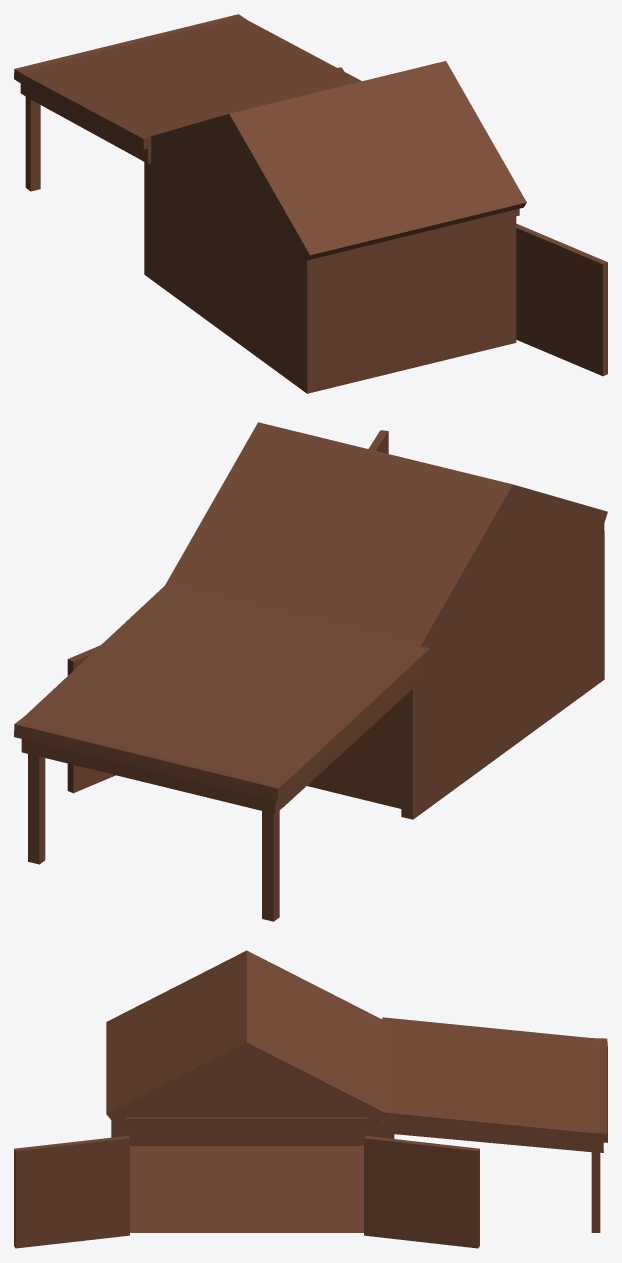
The model's file is SugarShack_TFSGJ_Spring2025.fbx.
3 views of the same model, one above another, from view 1: azimuth 30°, elevation 25°; view 2: azimuth 150°, elevation 25°; view 3: azimuth 270°, elevation 25° (orthographic). The views are drawn at different scales.
Parts seen in each view (by area): view 1: Roof, left wall, Outside roof, Back Wall, Door1, Outside roof.002, Outside roof.003; view 2: Roof, Outside roof, Back Wall, Right wall, Outside roof.003, Outside roof.002, Outside roof.001, Door 2; view 3: Roof, Outside roof, Floor, Door 2, Door1, front wall, Back Wall, Outside roof.001.
Part boxes in pixels (box(x1,y1,x2,y2)): Roof: box(150, 61, 526, 267); left wall: box(307, 216, 516, 393); Outside roof: box(14, 14, 361, 163); Back Wall: box(151, 153, 307, 393); Door1: box(516, 223, 607, 376); Outside roof.002: box(25, 97, 40, 191); Outside roof.003: box(144, 162, 150, 279); Roof: box(165, 422, 607, 658); Outside roof: box(14, 585, 429, 813); Back Wall: box(421, 531, 604, 813); Right wall: box(307, 700, 401, 808); Outside roof.003: box(401, 682, 420, 819); Outside roof.002: box(262, 810, 279, 921); Outside roof.001: box(28, 754, 45, 864); Door 2: box(67, 645, 115, 793); Roof: box(106, 950, 386, 1124); Outside roof: box(382, 1017, 607, 1152); Floor: box(130, 1146, 363, 1232); Door 2: box(364, 1135, 479, 1248); Door1: box(14, 1135, 129, 1248); front wall: box(111, 1123, 382, 1137); Back Wall: box(129, 1135, 364, 1145); Outside roof.001: box(591, 1152, 600, 1232).
Size of the model in its own units: 210 by 177 by 490.
